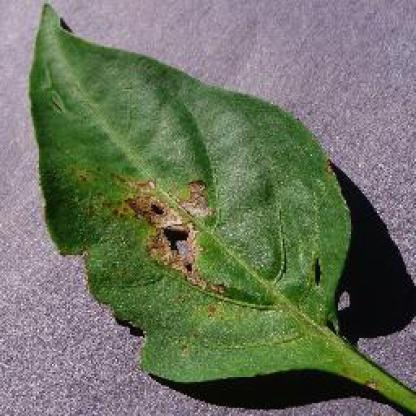bad leaf: (24, 0, 382, 415), (57, 85, 409, 414), (29, 221, 402, 332), (37, 144, 232, 312)
